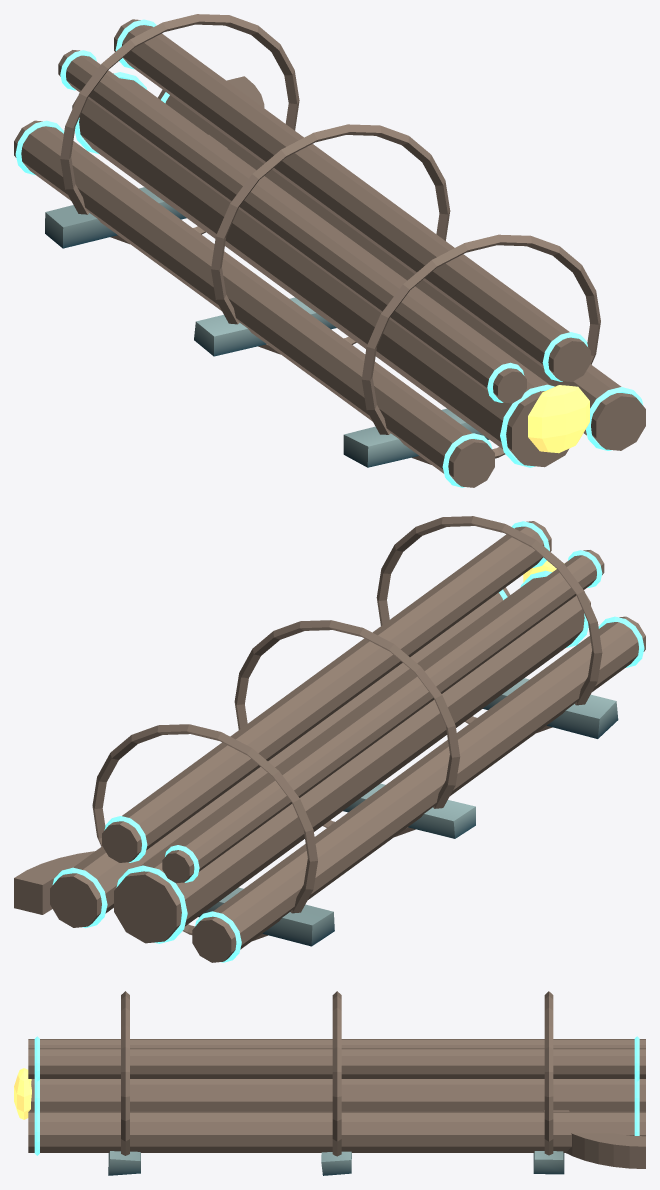
The model's file is prop_conduit_bundle.glb.
3 views of the same model, one above another, from view 1: azimuth 30°, elevation 25°; view 2: azimuth 150°, elevation 25°; view 3: azimuth 270°, elevation 25° (orthographic). The views are drawn at different scales.
Parts seen in each view (by area): view 1: prop_conduit_bundle_metal, prop_conduit_bundle_stone, prop_conduit_bundle_glow, prop_conduit_bundle_amber; view 2: prop_conduit_bundle_metal, prop_conduit_bundle_stone, prop_conduit_bundle_glow; view 3: prop_conduit_bundle_metal, prop_conduit_bundle_stone, prop_conduit_bundle_glow, prop_conduit_bundle_amber.
Part boxes in pixels (box(x1,y1,x2,y2)): prop_conduit_bundle_metal: box(14, 14, 645, 487); prop_conduit_bundle_stone: box(45, 187, 488, 467); prop_conduit_bundle_glow: box(15, 19, 643, 487); prop_conduit_bundle_amber: box(528, 385, 589, 453); prop_conduit_bundle_metal: box(14, 516, 645, 962); prop_conduit_bundle_stone: box(198, 678, 618, 946); prop_conduit_bundle_glow: box(52, 521, 644, 962); prop_conduit_bundle_metal: box(28, 991, 645, 1168); prop_conduit_bundle_stone: box(108, 1151, 564, 1175); prop_conduit_bundle_glow: box(34, 1036, 639, 1155); prop_conduit_bundle_amber: box(14, 1068, 31, 1119).
Size of the model in its own units: 2.4 by 1.96 by 7.16.
